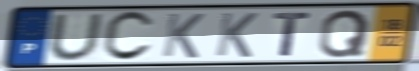C: (100, 9, 157, 64)
K: (159, 12, 207, 60), (213, 11, 260, 59)
Q: (316, 8, 372, 60)
T: (271, 11, 315, 58)
U: (47, 12, 106, 63)
